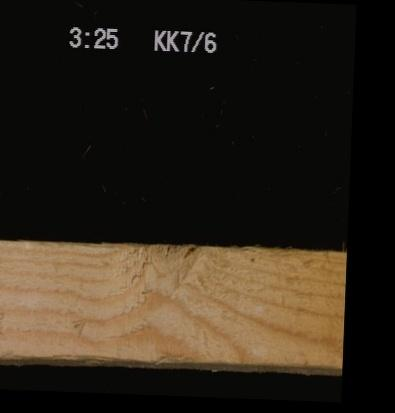edge_knot: (129, 242, 206, 288)
